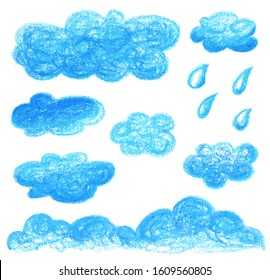cloud: (6, 195, 267, 254), (10, 7, 181, 83), (13, 151, 116, 204), (8, 91, 107, 137), (182, 142, 259, 190), (110, 111, 179, 159), (189, 9, 260, 53)
